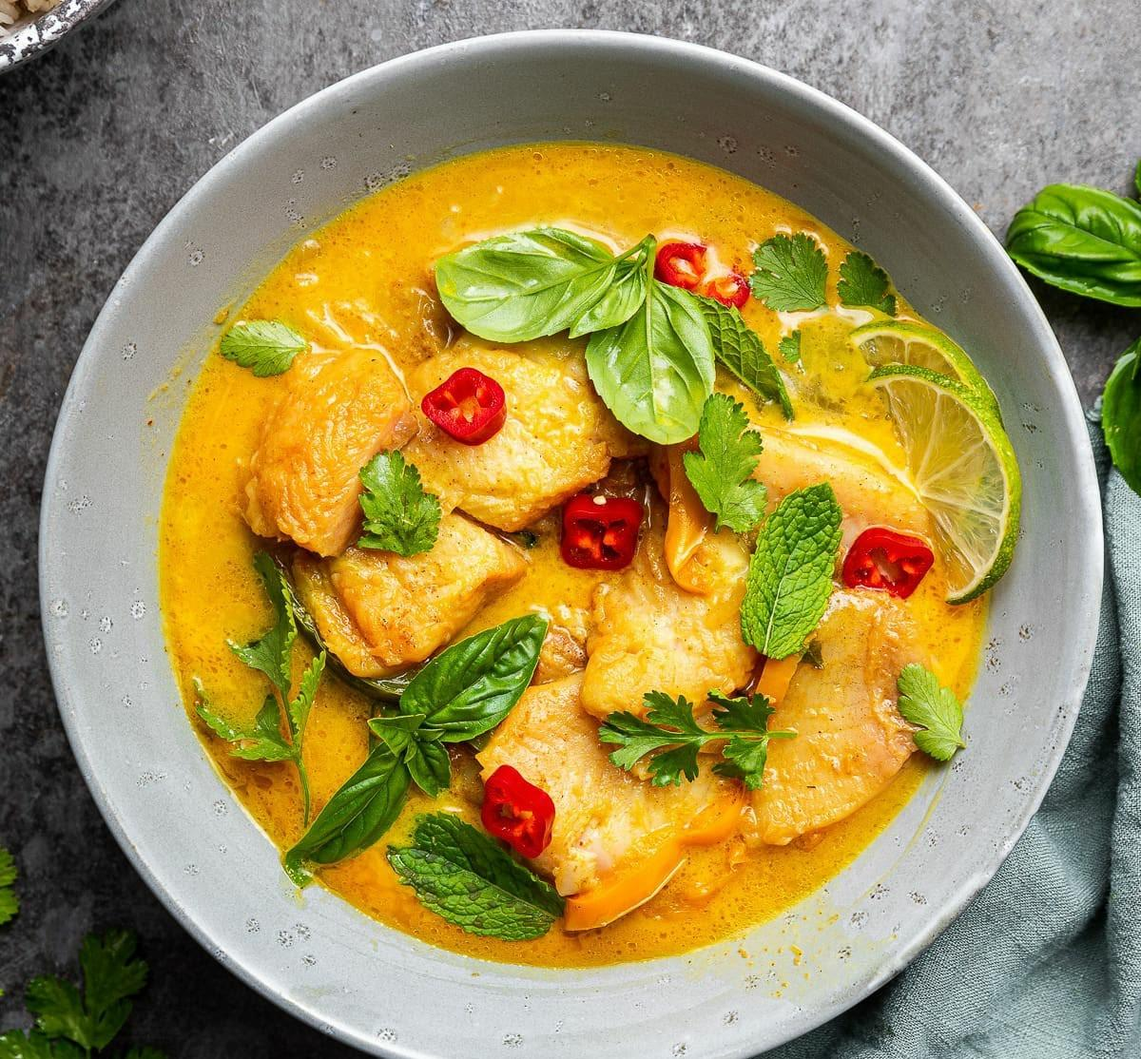FishCurry: (163, 144, 979, 970)
